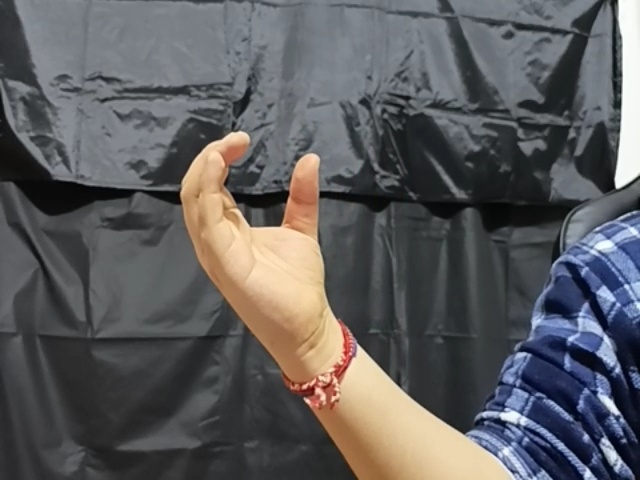C: (178, 130, 337, 309)
